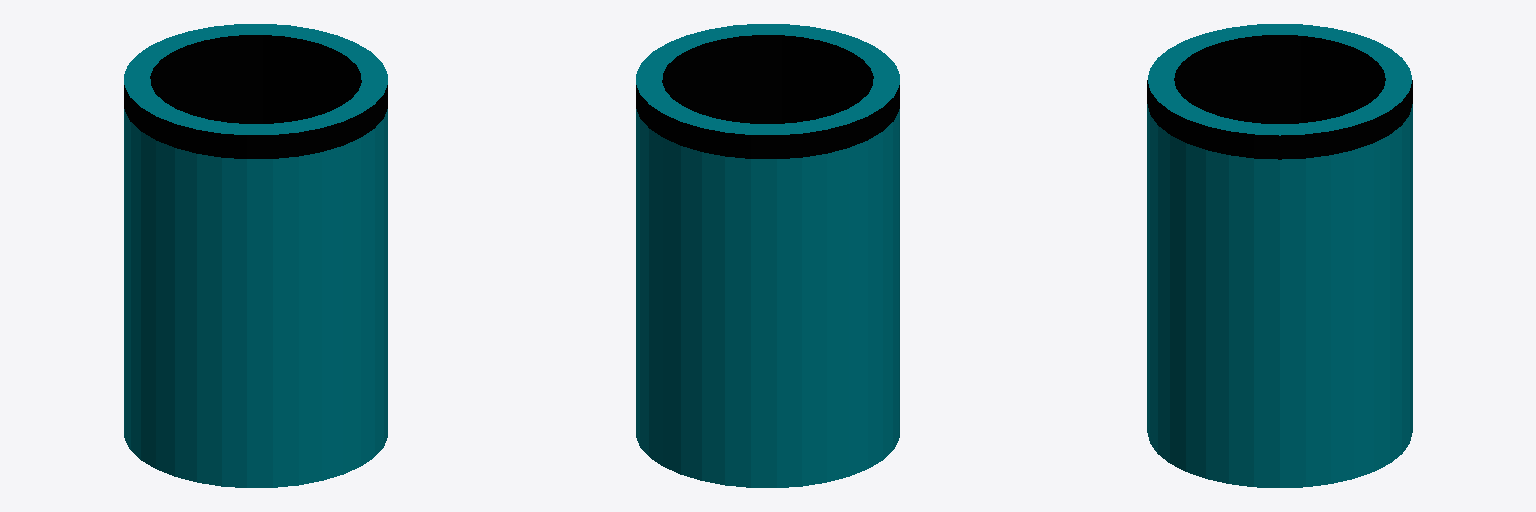
Rendered from jin.obj.
The picture shows the model from 3 angles: view 1: azimuth 30°, elevation 25°; view 2: azimuth 150°, elevation 25°; view 3: azimuth 270°, elevation 25°; orthographic projection.
Parts seen in each view (by area): view 1: Cylinder_Cylinder.001; view 2: Cylinder_Cylinder.001; view 3: Cylinder_Cylinder.001.
Boxes of the visible parts, box(x1,y1,x2,y2) form: Cylinder_Cylinder.001: box(124, 24, 387, 487); Cylinder_Cylinder.001: box(636, 24, 899, 487); Cylinder_Cylinder.001: box(1147, 24, 1412, 487).
Bounding box in the file's own units: 1.53 × 2.24 × 1.53.